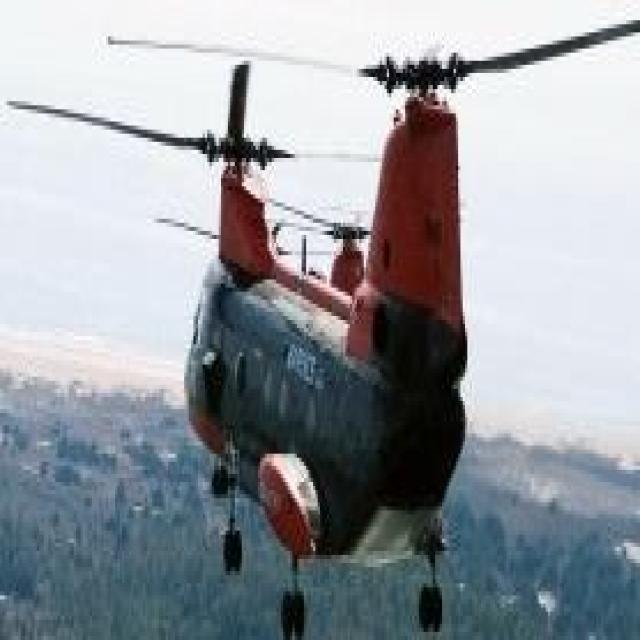Helicopter: (108, 20, 561, 632)
